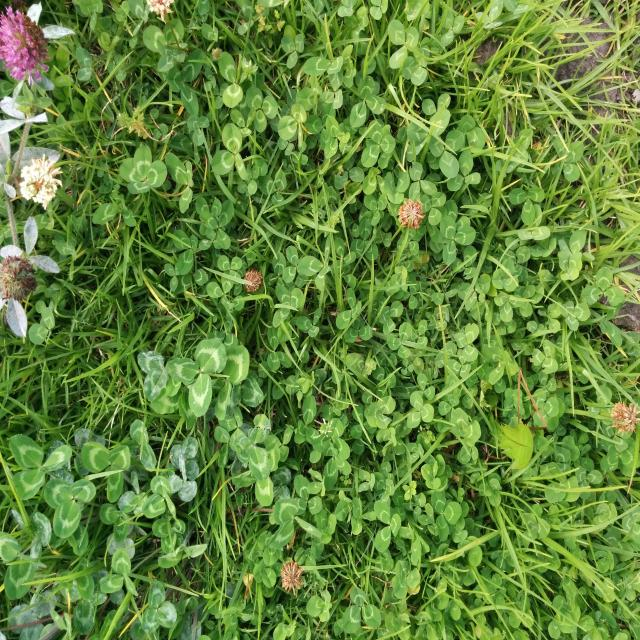Four Leaf Clover: (119, 145, 167, 195)
